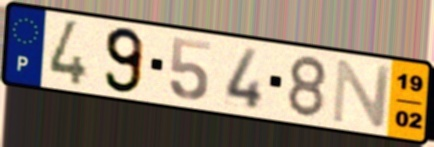4: (46, 18, 91, 89), (222, 44, 265, 111)
5: (167, 34, 213, 102)
8: (285, 53, 331, 120)
9: (100, 25, 149, 96)
N: (329, 57, 395, 129)
